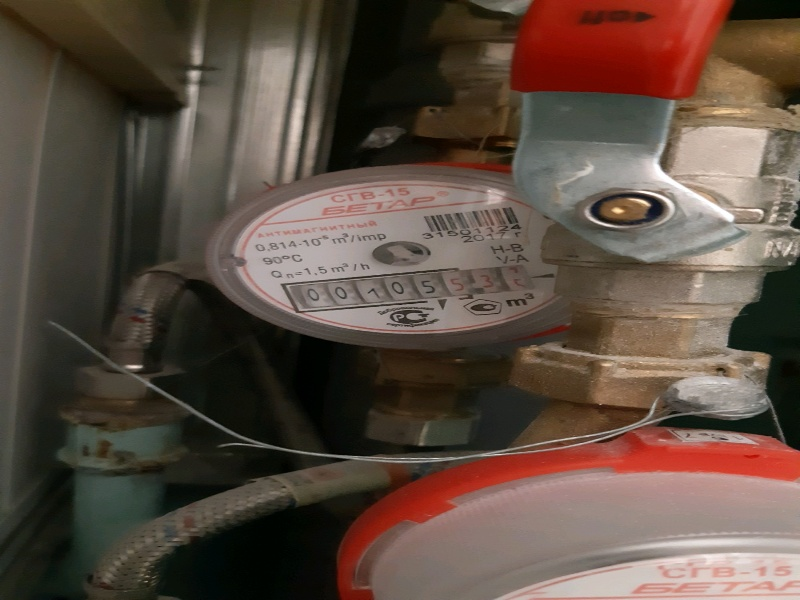meter: (282, 264, 537, 302)
